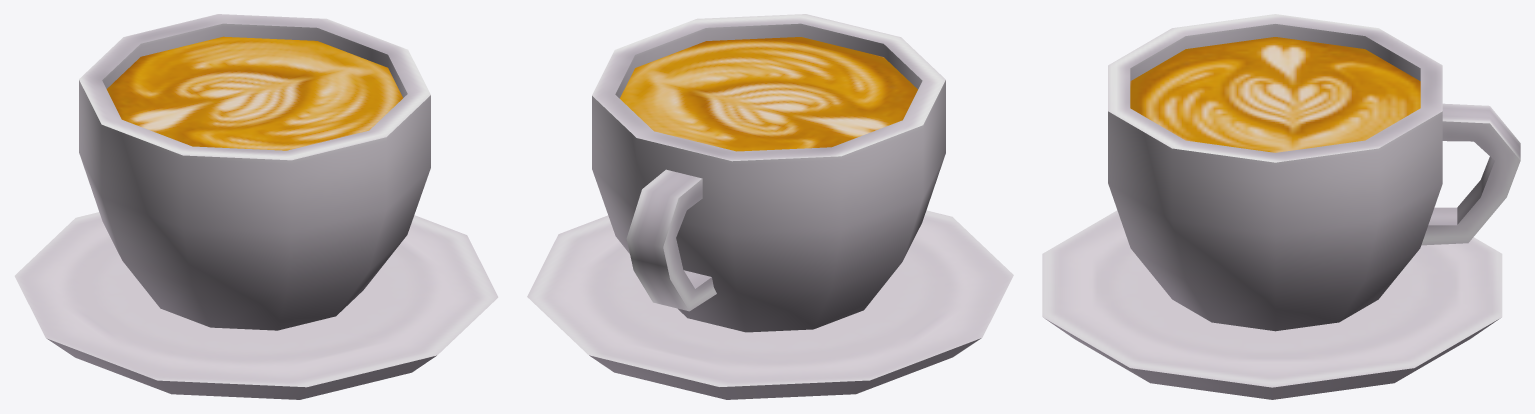
File: KaFeiTing_01_kafei_01.FBX
3 views of the same model, side by side, from view 1: azimuth 30°, elevation 25°; view 2: azimuth 150°, elevation 25°; view 3: azimuth 270°, elevation 25° (orthographic).
Parts seen in each view (by area): view 1: KaFeiTing_01_kafei_01; view 2: KaFeiTing_01_kafei_01; view 3: KaFeiTing_01_kafei_01.
Boxes of the visible parts, x1=… form: KaFeiTing_01_kafei_01: x1=14, y1=14, x2=498, y2=399; KaFeiTing_01_kafei_01: x1=527, y1=14, x2=1013, y2=399; KaFeiTing_01_kafei_01: x1=1042, y1=14, x2=1520, y2=399.
Size of the model in its own units: 85.54 by 43.67 by 84.57.
